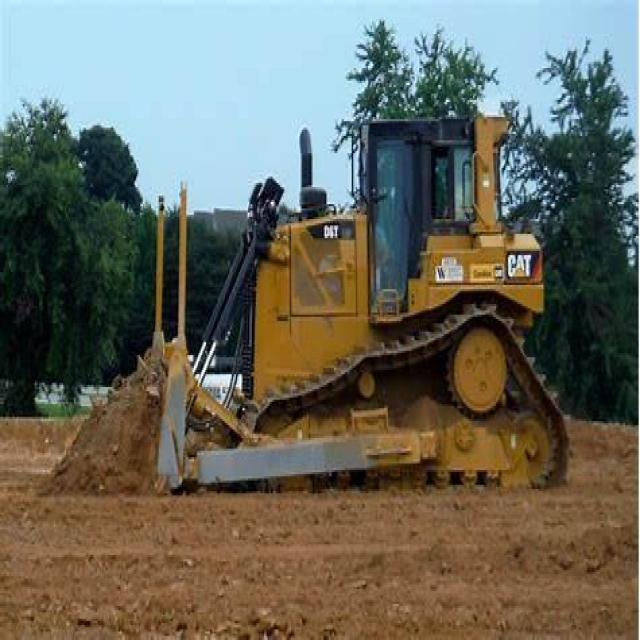buldozerpayloadergrader: (97, 100, 570, 502)
